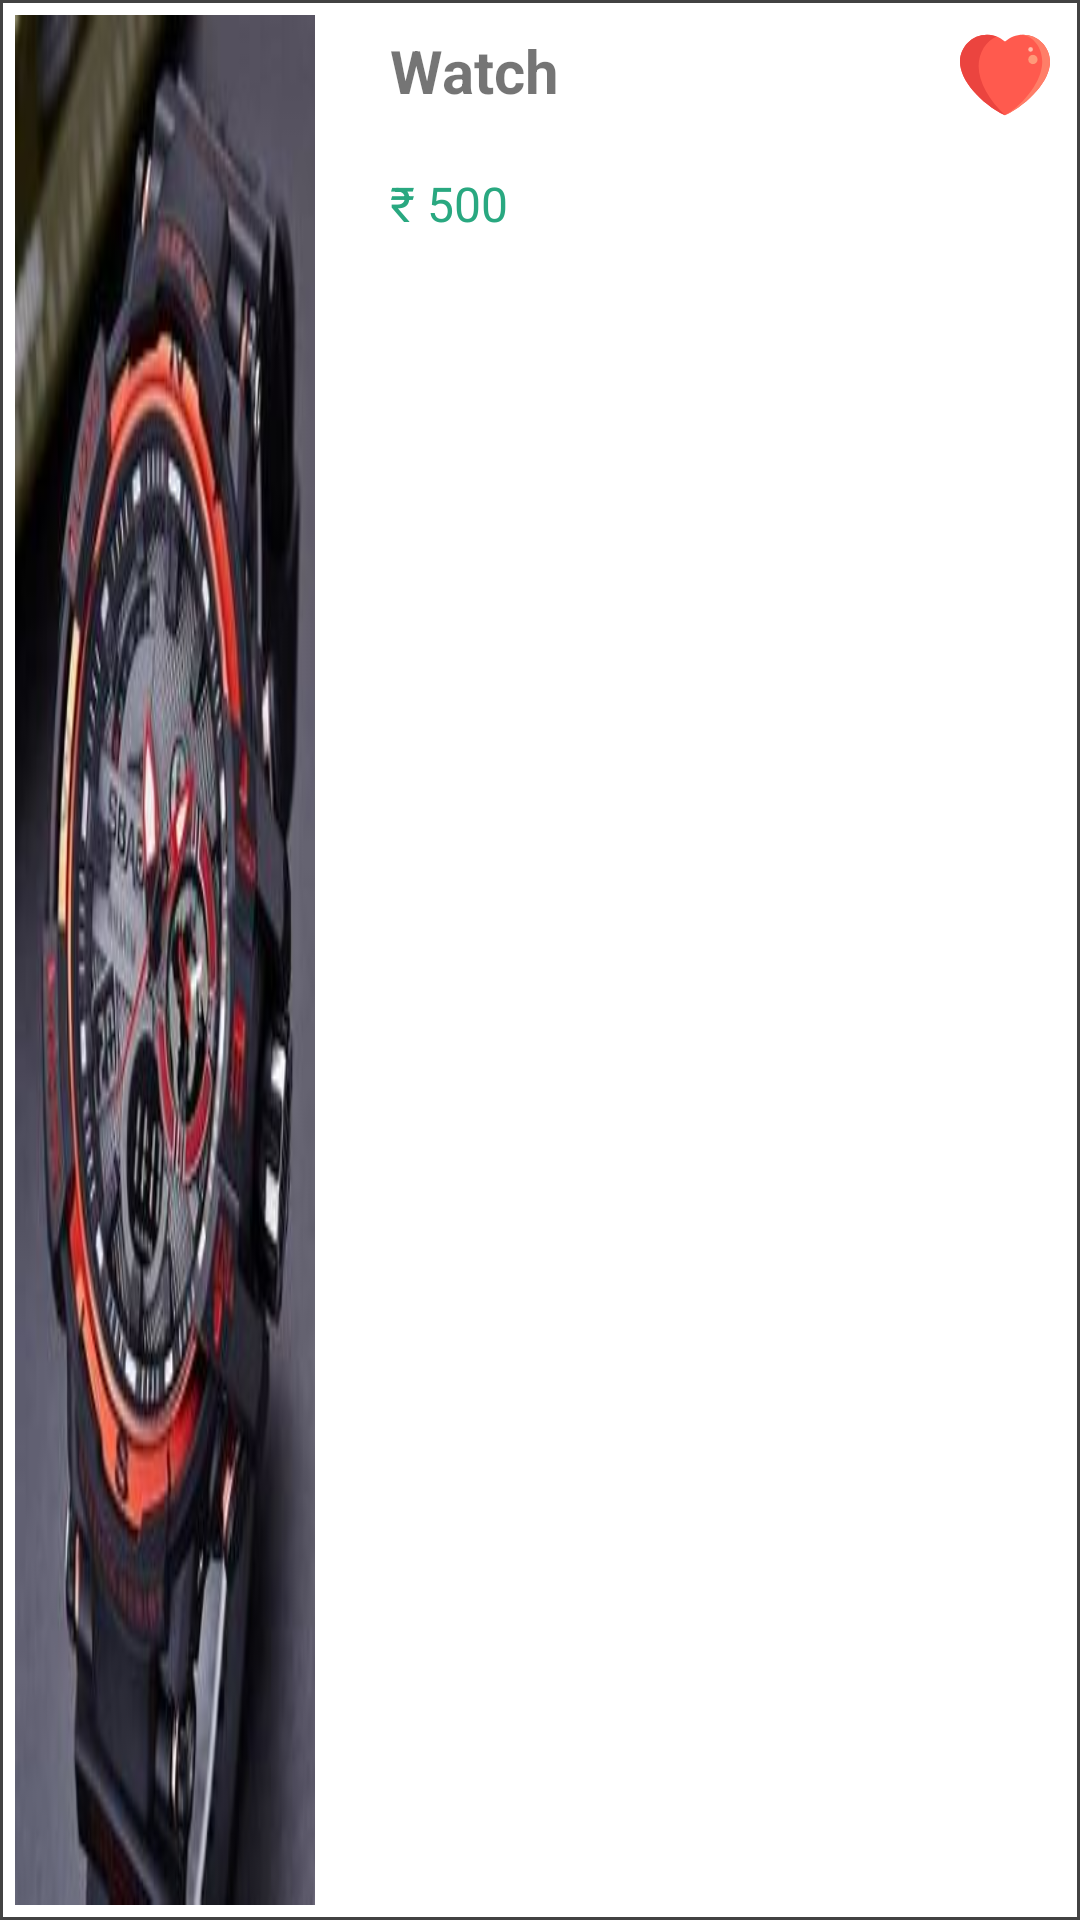

Icon bounding boxes for this 1080*1920 phone screenshot, format rect(x1, y1, x2, y2):
redheart: rect(960, 34, 1050, 115)
